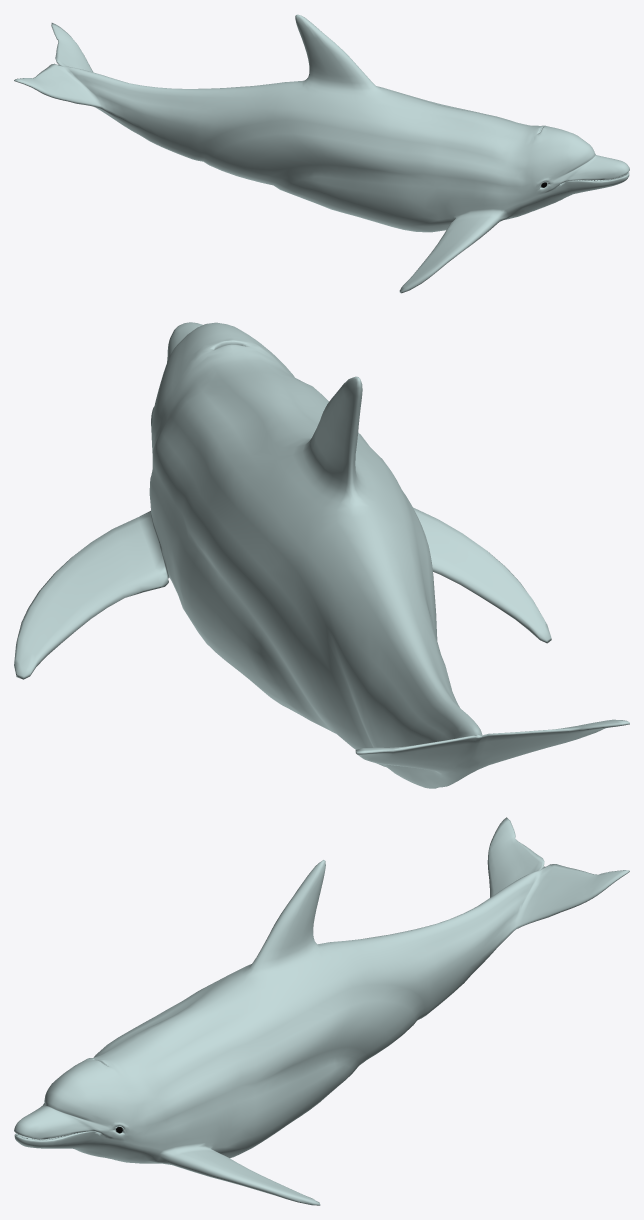
Rendered from dolphin_000005.obj.
3 views of the same model, one above another, from view 1: azimuth 30°, elevation 25°; view 2: azimuth 150°, elevation 25°; view 3: azimuth 270°, elevation 25° (orthographic). The views are drawn at different scales.
Visible parts, largest first — view 1: Dolphin; view 2: Dolphin; view 3: Dolphin.
Part boxes in pixels (left/top/right/bottom): Dolphin: left=14, top=14, right=629, bottom=293; Dolphin: left=14, top=322, right=629, bottom=788; Dolphin: left=14, top=817, right=629, bottom=1205.
Bounding box in the file's own units: 5.51 × 2.58 × 5.6.
